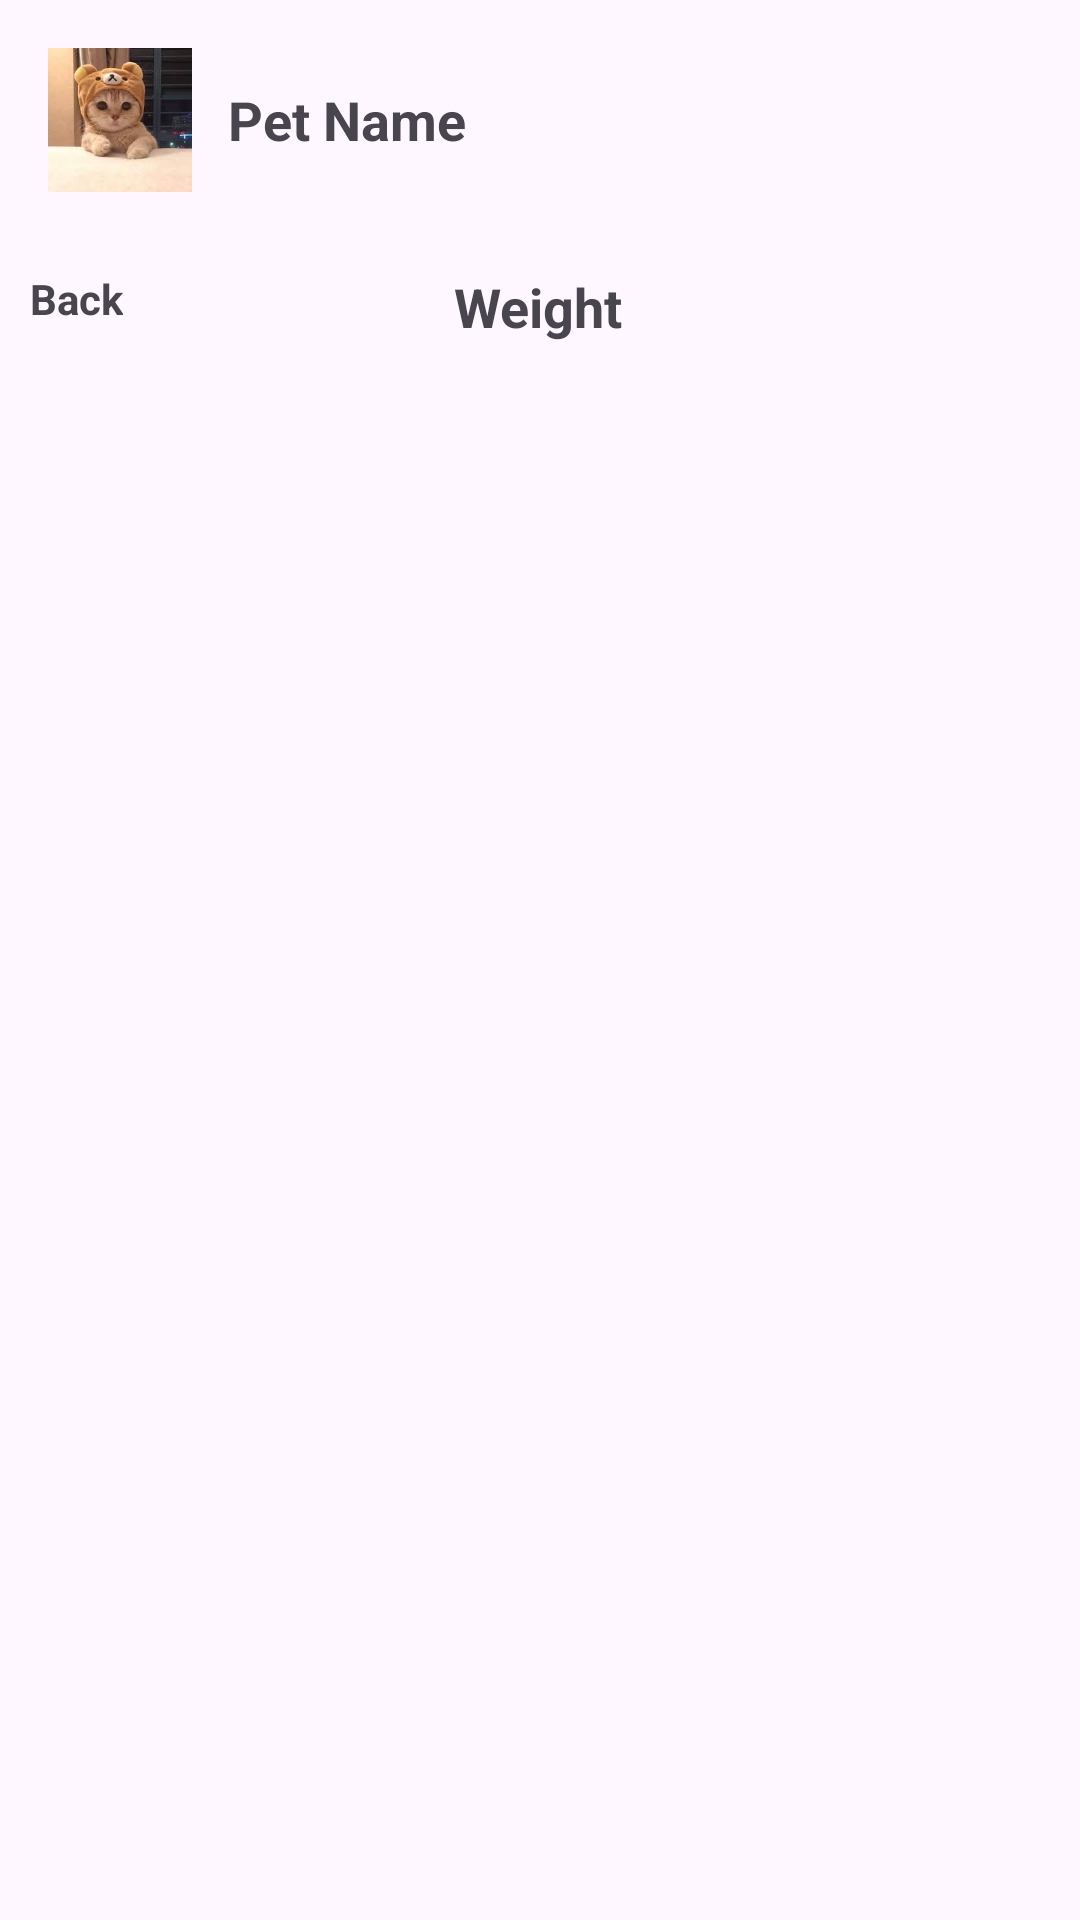

Locate icon controls on the screen. Image size 1080*1920, boxes as (x1, y1, x2, y2).
pet pic: (48, 48, 192, 192)
